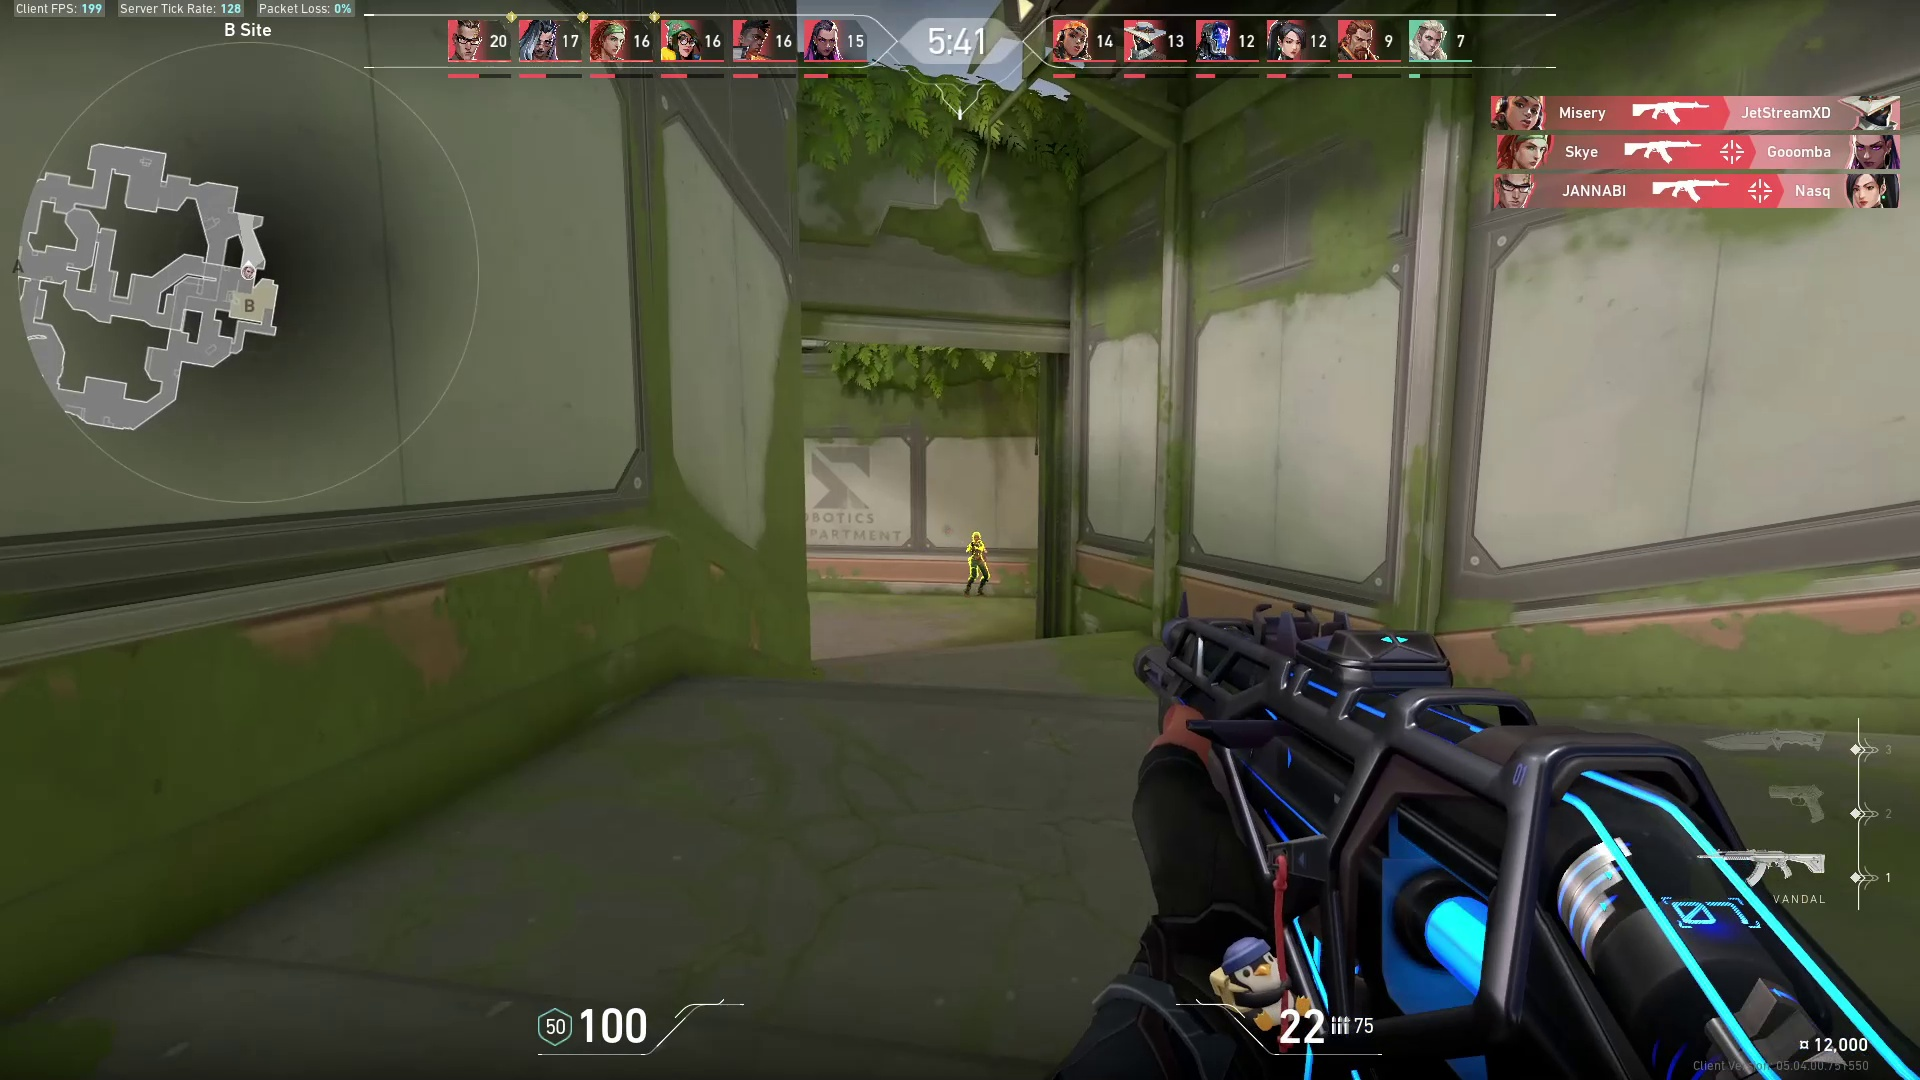enemy_body: (963, 542, 992, 599)
enemy_head: (969, 529, 982, 542)
